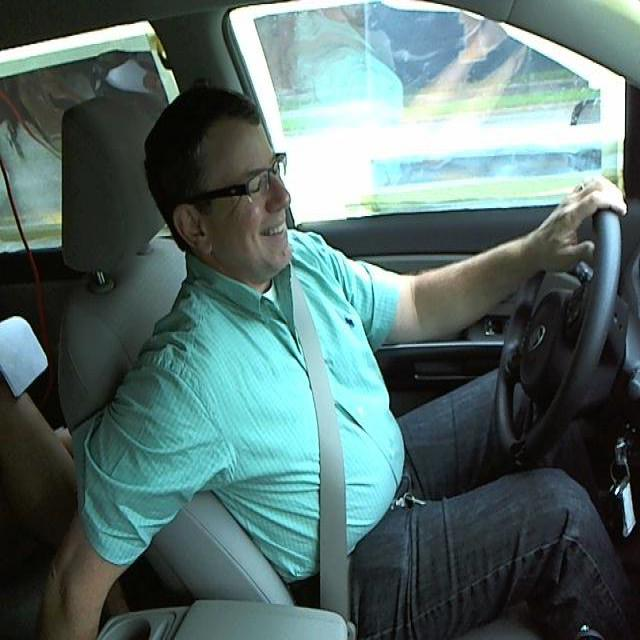seatbelt: (274, 287, 368, 617)
